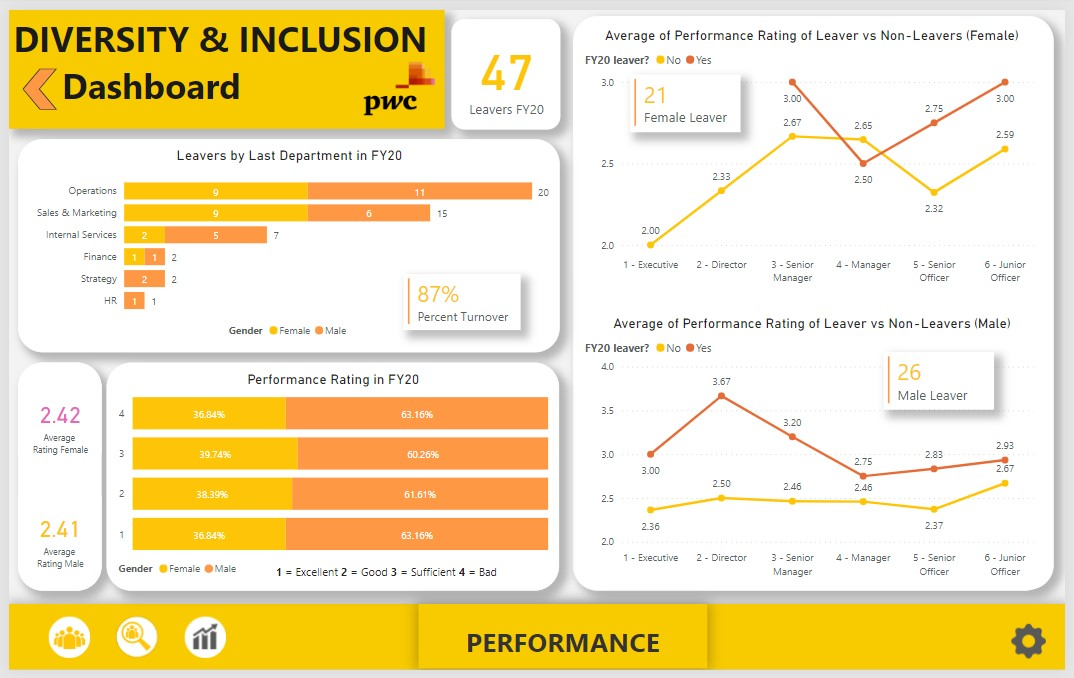

The page's visual inventory and layout, read from the dashboard file:
{"tool":"powerbi","page":{"name":"Performance","canvas":[1280,800],"ordinal":2},"visuals":[{"type":"shape","box":[10,426.7,101.1,276.7],"z":0},{"type":"shape","box":[683.3,7.4,582.6,695.2],"z":1000},{"type":"textbox","box":[0,720.5,1280.4,79.5],"z":2000},{"type":"textbox","box":[0,0,528,144],"z":3000},{"type":"image","box":[404,20,138,150],"z":4000},{"type":"shape","box":[16.7,70,42.2,50],"z":5000},{"type":"card","fields":{"Values":["Pharma Group AG.Leaver FY20"]},"box":[536.4,10,132.1,134.3],"z":6000},{"type":"lineChart","title":"Average of Performance Rating of Leaver vs Non-Leavers (Female)","fields":{"Category":["Pharma Group AG.Job Level after FY20 promotions"],"Series":["Pharma Group AG.FY20 leaver?"],"Y":["Avg(Pharma Group AG.Performance Rating in 2019)"]},"box":[683.8,10,577.5,337.5],"z":7000},{"type":"lineChart","title":"Average of Performance Rating of Leaver vs Non-Leavers (Male)","fields":{"Category":["Pharma Group AG.Job Level after FY20 promotions"],"Series":["Pharma Group AG.FY20 leaver?"],"Y":["Avg(Pharma Group AG.Performance Rating in 2019)"]},"box":[683.8,360,577.5,343.8],"z":8000},{"type":"barChart","title":"Leavers by Last Department in FY20","fields":{"Category":["Pharma Group AG.Last Department in FY20"],"Y":["Pharma Group AG.Leaver FY20"],"Series":["Pharma Group AG.Gender"]},"box":[10,156.7,656.7,258.3],"z":9000},{"type":"multiRowCard","fields":{"Values":["Pharma Group AG.Leaver FY20 for Female"]},"box":[752,78,134,70],"z":10000},{"type":"multiRowCard","fields":{"Values":["Pharma Group AG.Leaver FY20 for Male"]},"box":[1060,414,134,70],"z":11000},{"type":"multiRowCard","fields":{"Values":["Backing 1.Percent Turnover"]},"box":[478,320,142,68],"z":12000},{"type":"hundredPercentStackedBarChart","title":"Performance Rating in FY20","fields":{"Category":["Pharma Group AG.Performance Rating in 2020"],"Y":["CountNonNull(Pharma Group AG.Employee ID)"],"Series":["Pharma Group AG.Gender"]},"box":[118.3,426.7,548.3,276.7],"z":13000},{"type":"textbox","box":[318.9,665.6,301.1,36.7],"z":14000},{"type":"card","fields":{"Values":["Pharma Group AG.Average Performance Rating Male"]},"box":[10,564.4,101.1,140],"z":15000},{"type":"card","fields":{"Values":["Pharma Group AG.Average Performance Rating Female"]},"box":[10,426.7,101.1,136.7],"z":16000},{"type":"actionButton","box":[112.5,720,83.8,80],"z":17000},{"type":"actionButton","box":[30,720,84,80],"z":18000},{"type":"actionButton","box":[196.2,720,83.8,80],"z":19000},{"type":"actionButton","box":[1211.4,740.7,50,50],"z":20000},{"type":"textbox","box":[496,720,350,78],"z":20500}]}

Visuals, with their boxes in screenshot pixels (x1, y1, x2, y2), scaled from the page's 1280x800 canvas onto the 1074x678 screenshot:
shape: box=[8, 362, 93, 596]
shape: box=[573, 6, 1062, 595]
textbox: box=[0, 611, 1073, 677]
textbox: box=[0, 0, 443, 122]
image: box=[339, 17, 455, 144]
shape: box=[14, 59, 49, 102]
card - Pharma Group AG.Leaver FY20: box=[450, 8, 561, 122]
"Average of Performance Rating of Leaver vs Non-Leavers (Female)" lineChart: box=[574, 8, 1058, 295]
"Average of Performance Rating of Leaver vs Non-Leavers (Male)" lineChart: box=[574, 305, 1058, 596]
"Leavers by Last Department in FY20" barChart: box=[8, 133, 559, 352]
multiRowCard - Pharma Group AG.Leaver FY20 for Female: box=[631, 66, 743, 125]
multiRowCard - Pharma Group AG.Leaver FY20 for Male: box=[889, 351, 1002, 410]
multiRowCard - Backing 1.Percent Turnover: box=[401, 271, 520, 329]
"Performance Rating in FY20" hundredPercentStackedBarChart: box=[99, 362, 559, 596]
textbox: box=[268, 564, 520, 595]
card - Pharma Group AG.Average Performance Rating Male: box=[8, 478, 93, 597]
card - Pharma Group AG.Average Performance Rating Female: box=[8, 362, 93, 477]
actionButton: box=[94, 610, 165, 677]
actionButton: box=[25, 610, 96, 677]
actionButton: box=[165, 610, 235, 677]
actionButton: box=[1016, 628, 1058, 670]
textbox: box=[416, 610, 710, 676]
